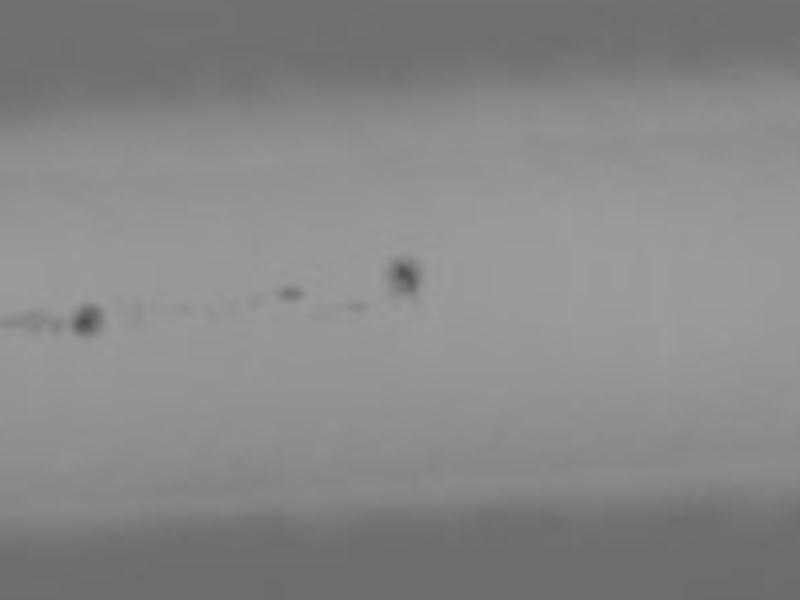defect: (389, 256, 426, 298), (74, 306, 105, 336), (10, 311, 45, 332), (274, 286, 306, 303), (346, 297, 367, 314), (56, 319, 68, 334)
